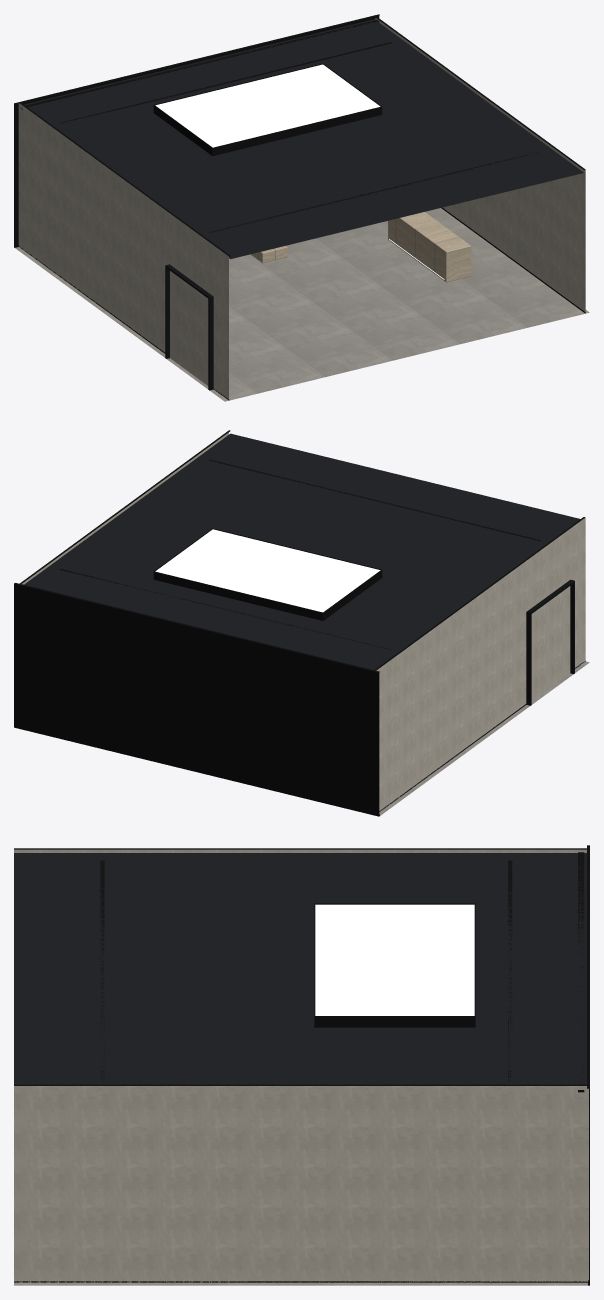
File: room_lounge.glb
3 views of the same model, one above another, from view 1: azimuth 30°, elevation 25°; view 2: azimuth 150°, elevation 25°; view 3: azimuth 270°, elevation 25° (orthographic). The views are drawn at different scales.
Visible parts, largest first — view 1: MTG_Ceiling, MTG_Floor, MTG_Walls, MTG_Diffuser, MTG_Reveals, MTG_Counter, MTG_WallL_Filler, MTG_DoorFrame_L; view 2: MTG_Ceiling, MTG_Reveals, MTG_Walls, MTG_Diffuser, MTG_WallL_Filler, MTG_DoorFrame_L, MTG_Floor; view 3: MTG_Walls, MTG_Ceiling, MTG_Diffuser, MTG_Reveals, MTG_Floor.
Boxes of the visible parts, x1=… form: MTG_Ceiling: x1=24, y1=19, x2=583, y2=259; MTG_Floor: x1=15, y1=208, x2=589, y2=401; MTG_Walls: x1=18, y1=18, x2=585, y2=400; MTG_Diffuser: x1=155, y1=64, x2=380, y2=147; MTG_Reveals: x1=14, y1=14, x2=585, y2=400; MTG_Counter: x1=388, y1=212, x2=471, y2=282; MTG_WallL_Filler: x1=170, y1=271, x2=208, y2=385; MTG_DoorFrame_L: x1=165, y1=264, x2=213, y2=390; MTG_Ceiling: x1=24, y1=433, x2=580, y2=669; MTG_Reveals: x1=14, y1=430, x2=585, y2=816; MTG_Walls: x1=21, y1=432, x2=585, y2=811; MTG_Diffuser: x1=155, y1=529, x2=380, y2=612; MTG_WallL_Filler: x1=531, y1=586, x2=570, y2=701; MTG_DoorFrame_L: x1=526, y1=579, x2=574, y2=705; MTG_Floor: x1=379, y1=661, x2=589, y2=815; MTG_Walls: x1=14, y1=849, x2=588, y2=1282; MTG_Ceiling: x1=14, y1=853, x2=586, y2=1084; MTG_Diffuser: x1=315, y1=904, x2=474, y2=1015; MTG_Reveals: x1=14, y1=845, x2=589, y2=1285; MTG_Floor: x1=14, y1=1282, x2=587, y2=1285.
Bounding box in the file's own units: 13.01 × 5.08 × 13.
13 materials, 4 textured.
